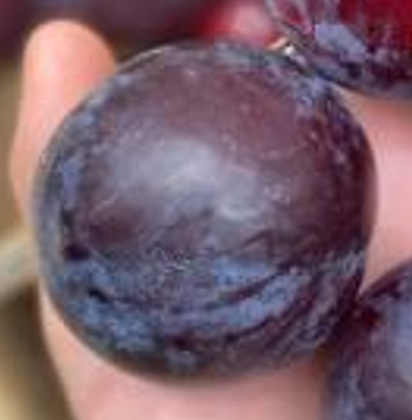plum_A: (31, 40, 380, 379)
